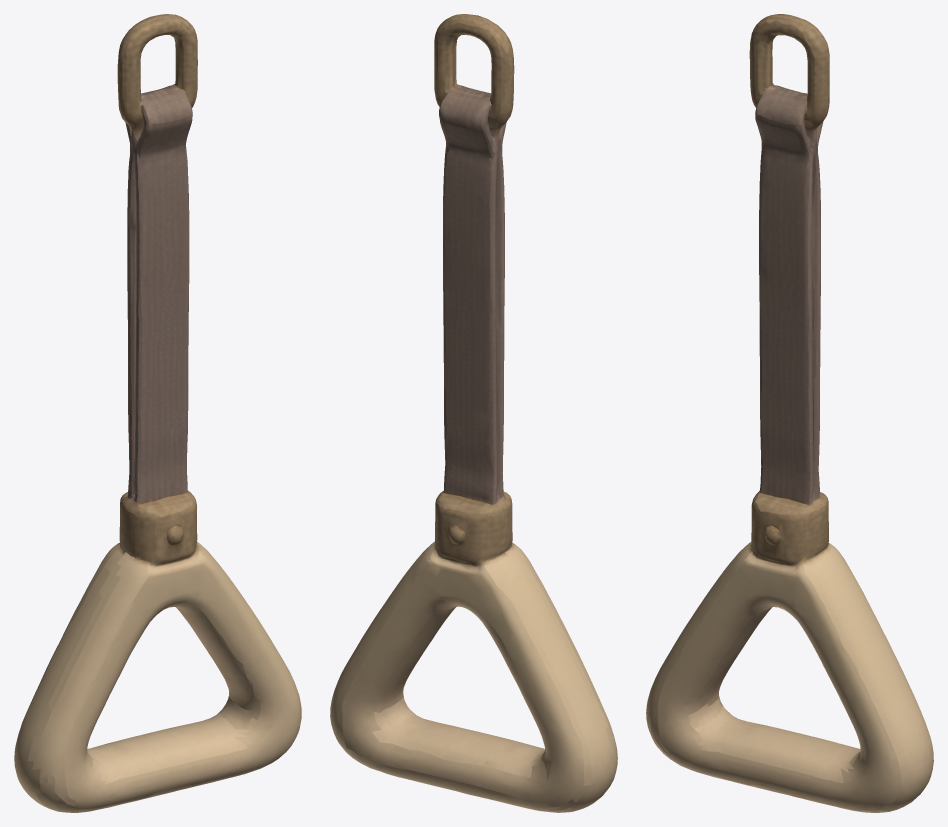
File: strap_v2.glb
The picture shows the model from 3 angles, left to right: view 1: azimuth 30°, elevation 25°; view 2: azimuth 150°, elevation 25°; view 3: azimuth 330°, elevation 25°; orthographic projection.
Visible parts, largest first — view 1: world; view 2: world; view 3: world.
Boxes of the visible parts, x1,y1,x2,y2 form: world: (14,14,301,812); world: (330,14,617,812); world: (646,14,933,812).
Bounding box in the file's own units: 0.28 × 0.7554 × 0.0715.
1 material, 1 textured.
